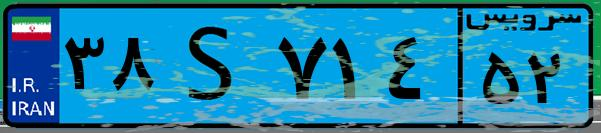1: (330, 28, 385, 110)
2: (525, 38, 570, 115)
3: (57, 26, 110, 100)
4: (385, 28, 445, 110)
5: (475, 38, 525, 113)
7: (270, 28, 330, 110)
8: (110, 28, 158, 98)
S: (158, 12, 270, 120)
